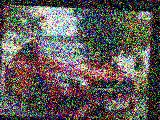car: (2, 38, 138, 120)
